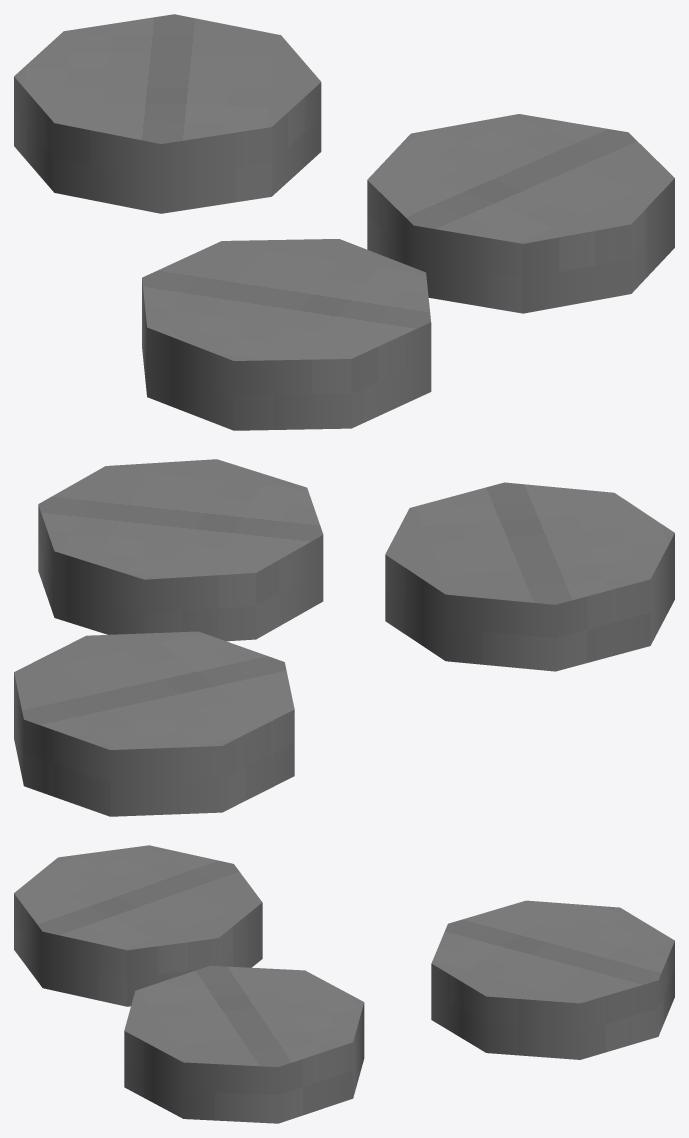
The model's file is pills_3.glb.
The picture shows the model from 3 angles, top to bottom: view 1: azimuth 30°, elevation 25°; view 2: azimuth 150°, elevation 25°; view 3: azimuth 270°, elevation 25°; orthographic projection. The views are drawn at different scales.
Parts seen in each view (by area): view 1: pills_3; view 2: pills_3; view 3: pills_3.
Part boxes in pixels (left/top/right/bottom): pills_3: left=14, top=14, right=674, bottom=430; pills_3: left=14, top=459, right=674, bottom=816; pills_3: left=14, top=845, right=674, bottom=1123.
Bounding box in the file's own units: 0.0463 × 0.0055 × 0.0583.
1 material, 1 textured.
